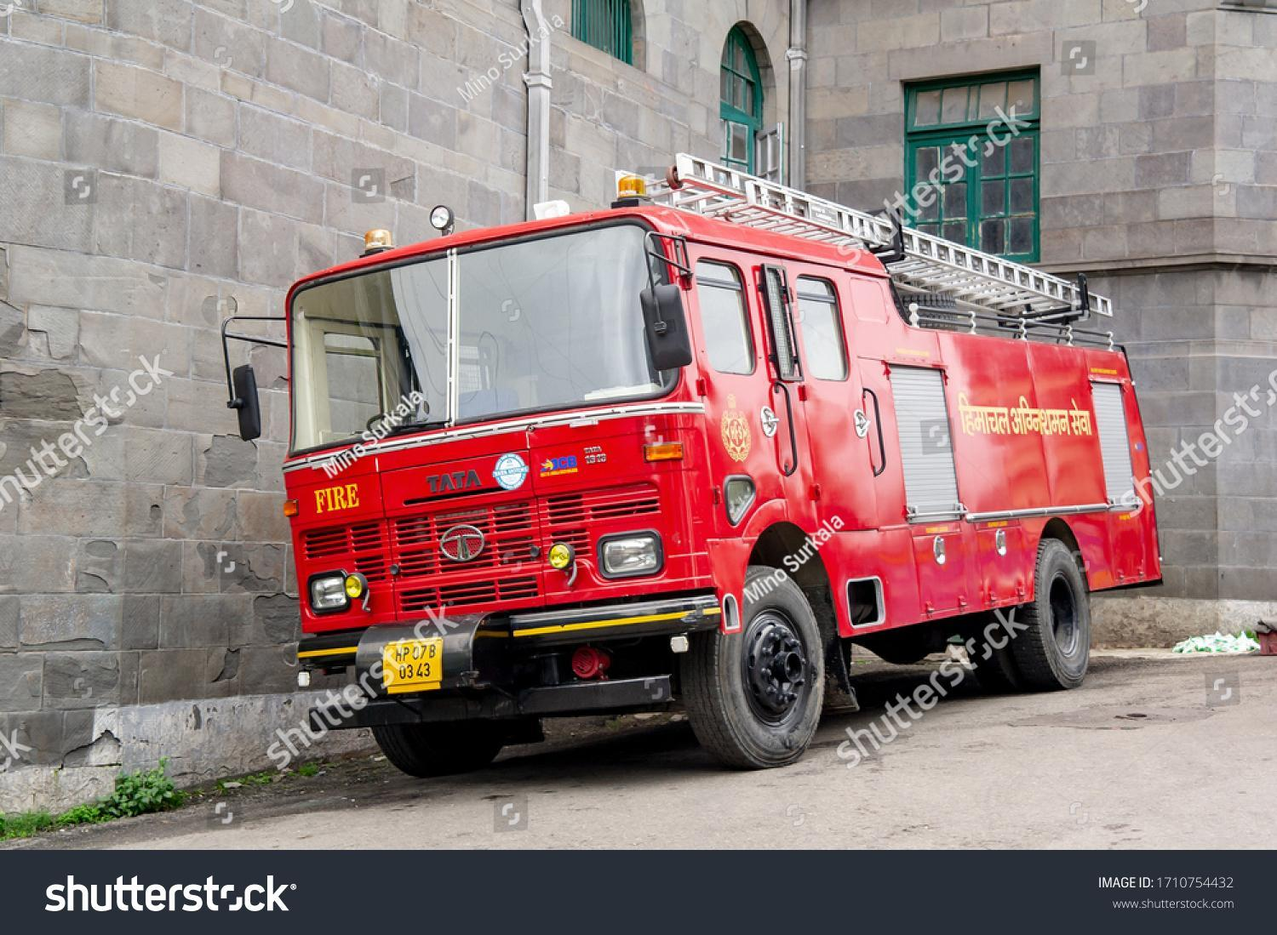Fire-engine: (283, 162, 1165, 782)
